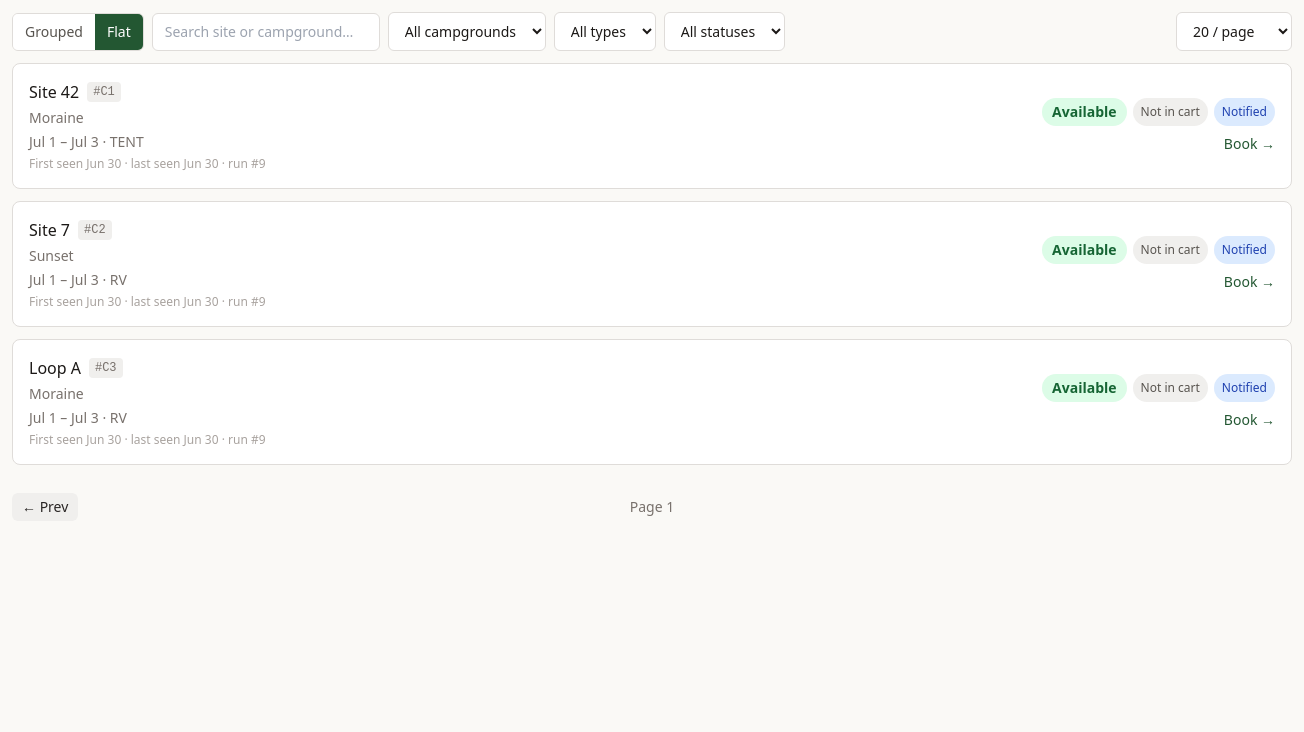
Test case: ResultsTab (client-side filtering) › renders all results, then filters by search and by facility
Expected: the text "Site 42" is shown, [29, 80, 79, 104]
Expected: the text "Site 7" is shown, [29, 218, 70, 242]
Step 1. Type "loop" into the field with placeholder "Search site or campground…" → (266, 32), box [152, 13, 380, 51]
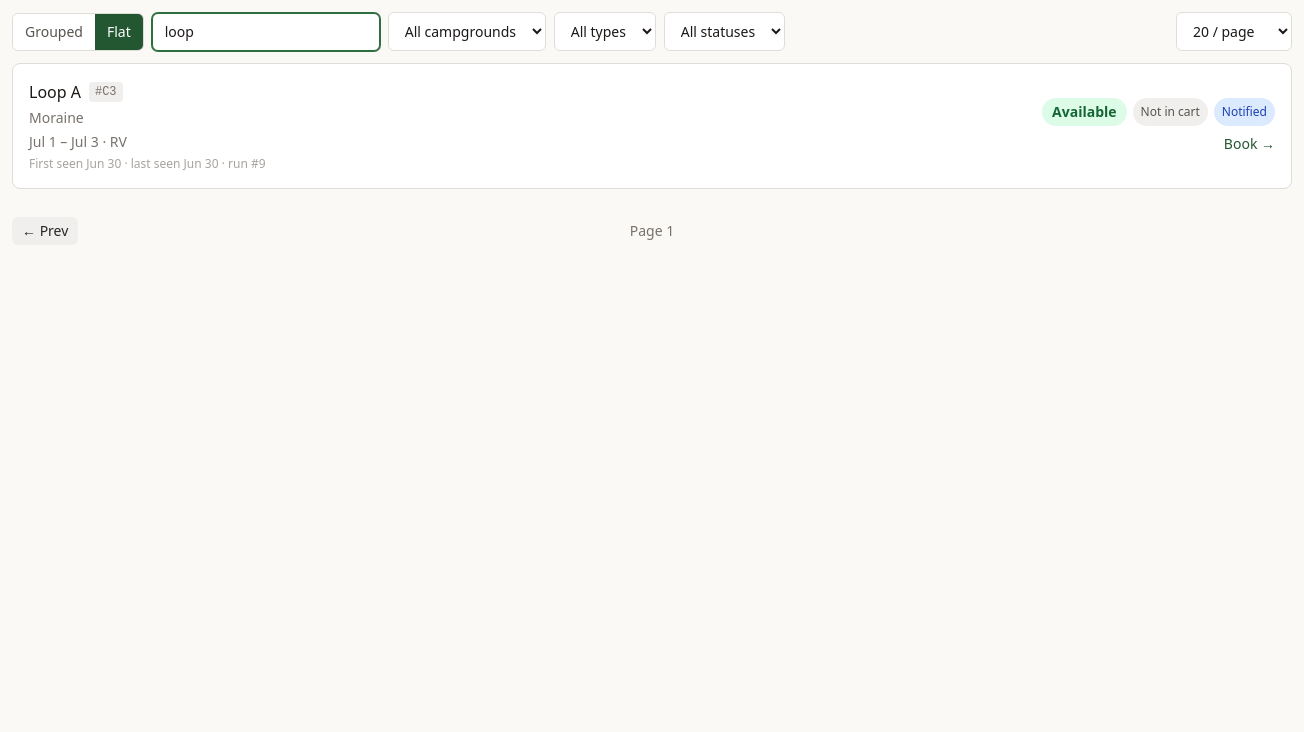
Expected: the text "Loop A" is shown, [29, 80, 81, 104]
Result: the text "Site 42" is gone
Step 2. Clear the field with placeholder "Search site or campground…" → (266, 32), box [152, 13, 380, 51]
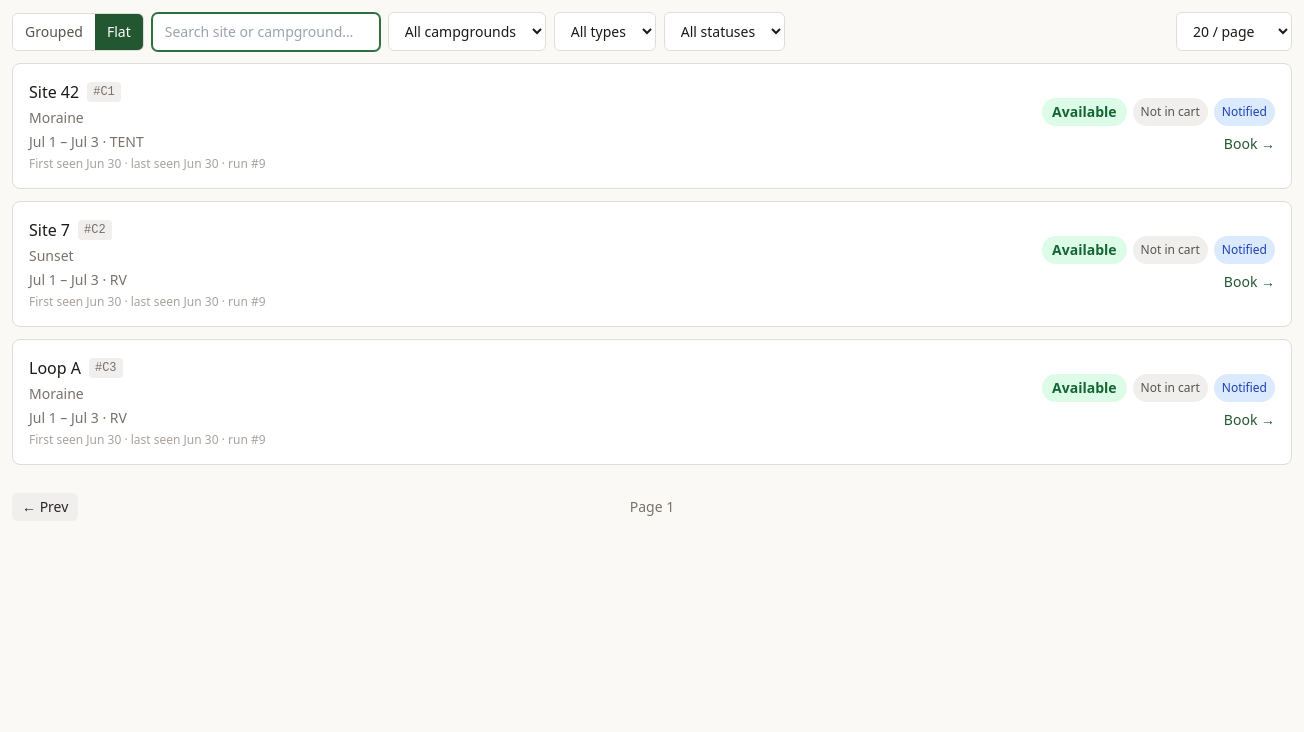
// Facility dropdown → Sunset (locate via its unique "All campgrounds" option)
Step 3. Select "Sunset" in the 1st dropdown named "All campgrounds" → (467, 32), box [388, 12, 546, 51]
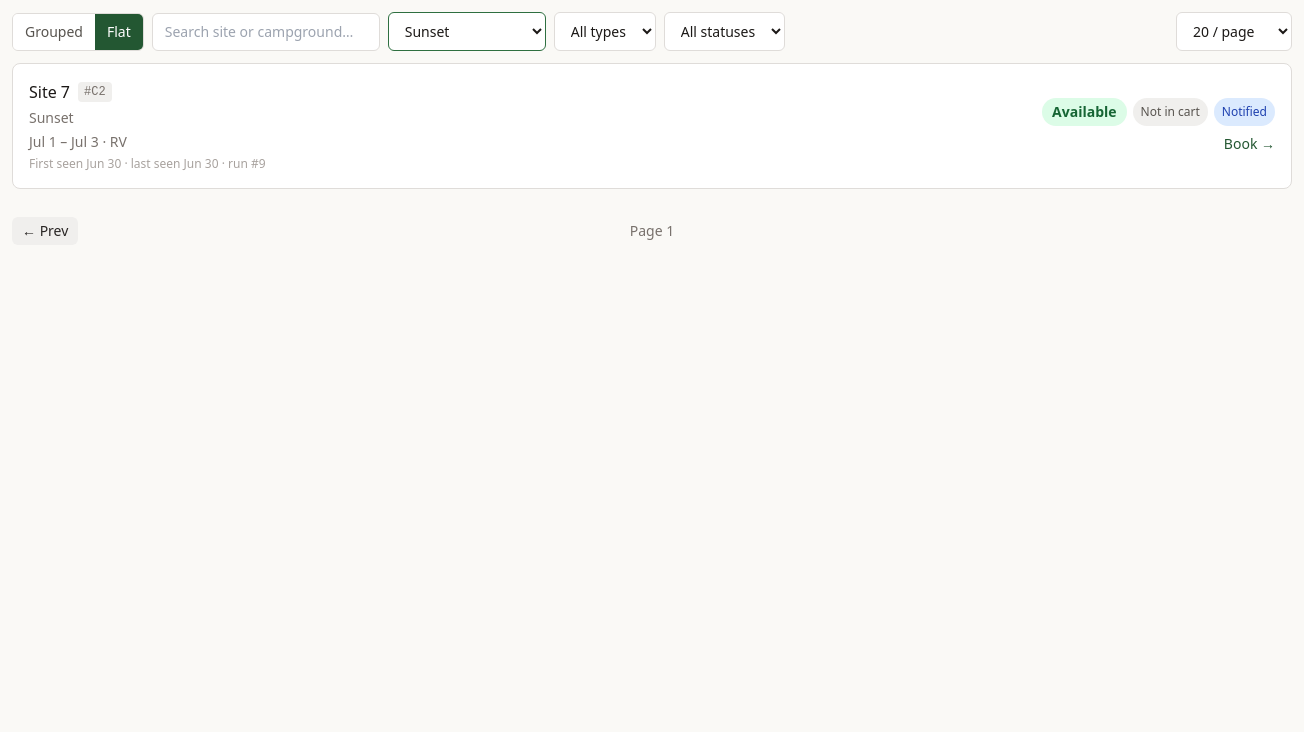
Result: the text "Site 7" is shown at [29, 80, 70, 104]
Result: the text "Loop A" is gone
Result: the text "Site 42" is gone
